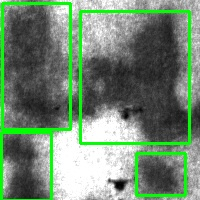patches: (80, 11, 189, 143), (2, 3, 70, 129), (1, 132, 51, 200), (136, 153, 185, 195)
